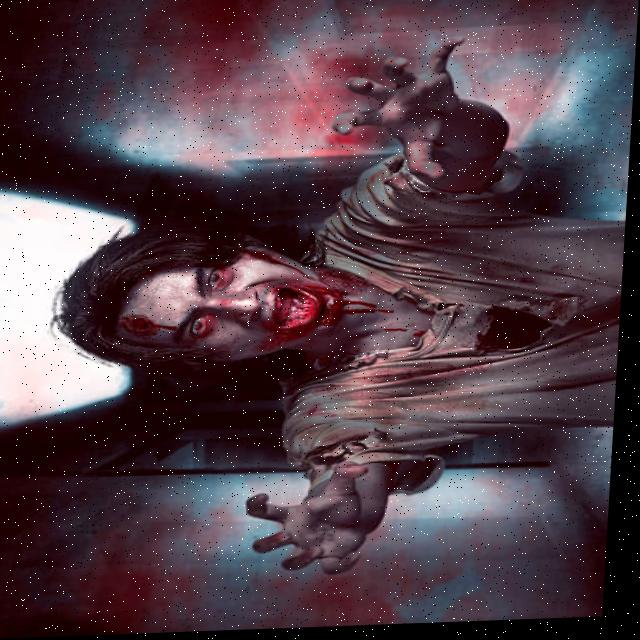Zombie: (119, 225, 370, 359)
